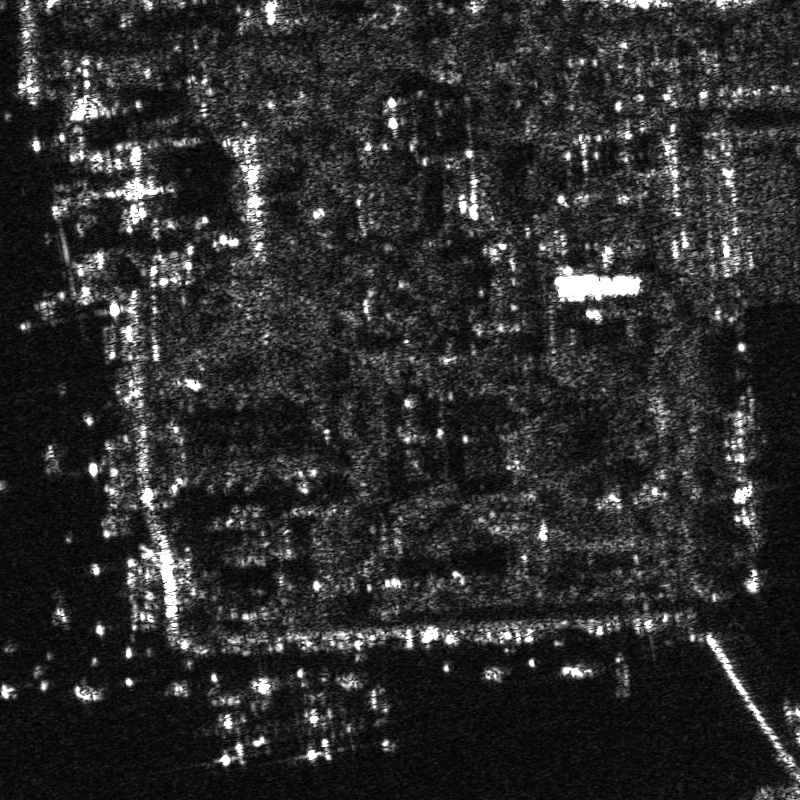ARJ21: (341, 674, 432, 756)
Boeing737: (196, 683, 272, 770)
other: (278, 686, 343, 769)
